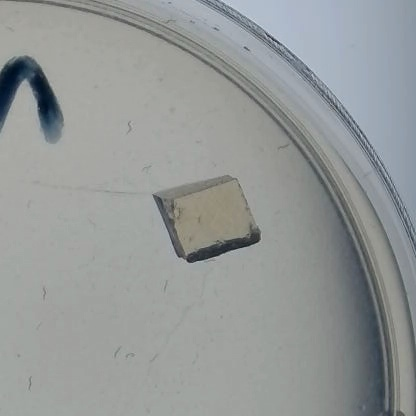worm: (22, 373, 36, 393), (123, 118, 135, 138), (273, 141, 292, 153), (139, 160, 154, 175), (4, 21, 18, 37), (85, 216, 98, 232), (162, 278, 172, 298), (112, 343, 123, 361), (147, 353, 162, 366), (190, 351, 201, 368), (124, 349, 137, 363), (39, 287, 50, 302), (24, 196, 32, 215), (33, 321, 46, 332)
